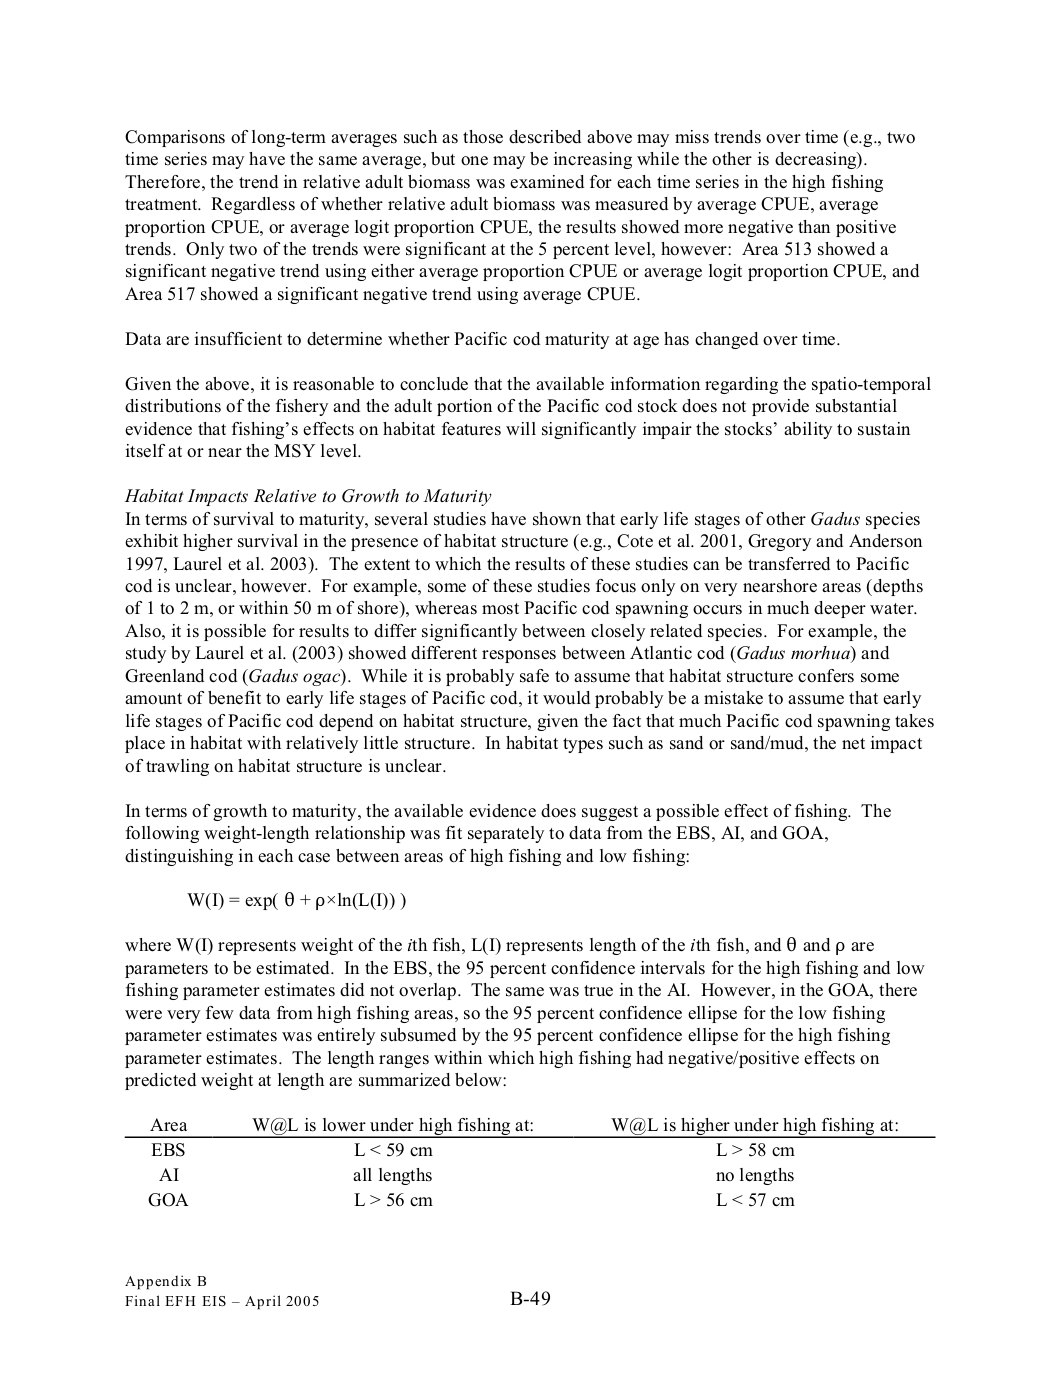Table: (124, 1117, 935, 1206)
formula: (187, 892, 405, 911)
